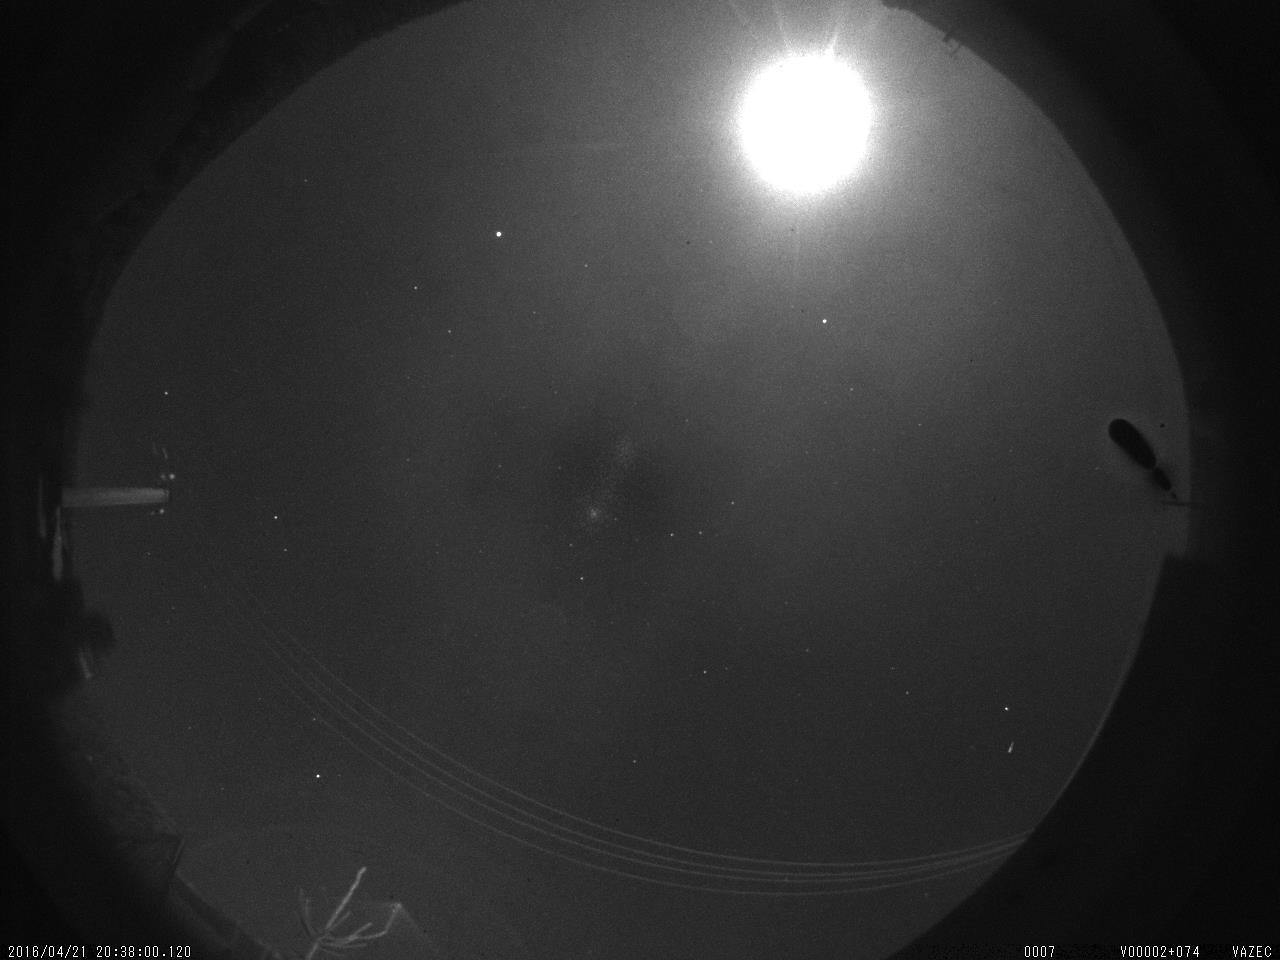Meteor: (1001, 734, 1022, 763)
